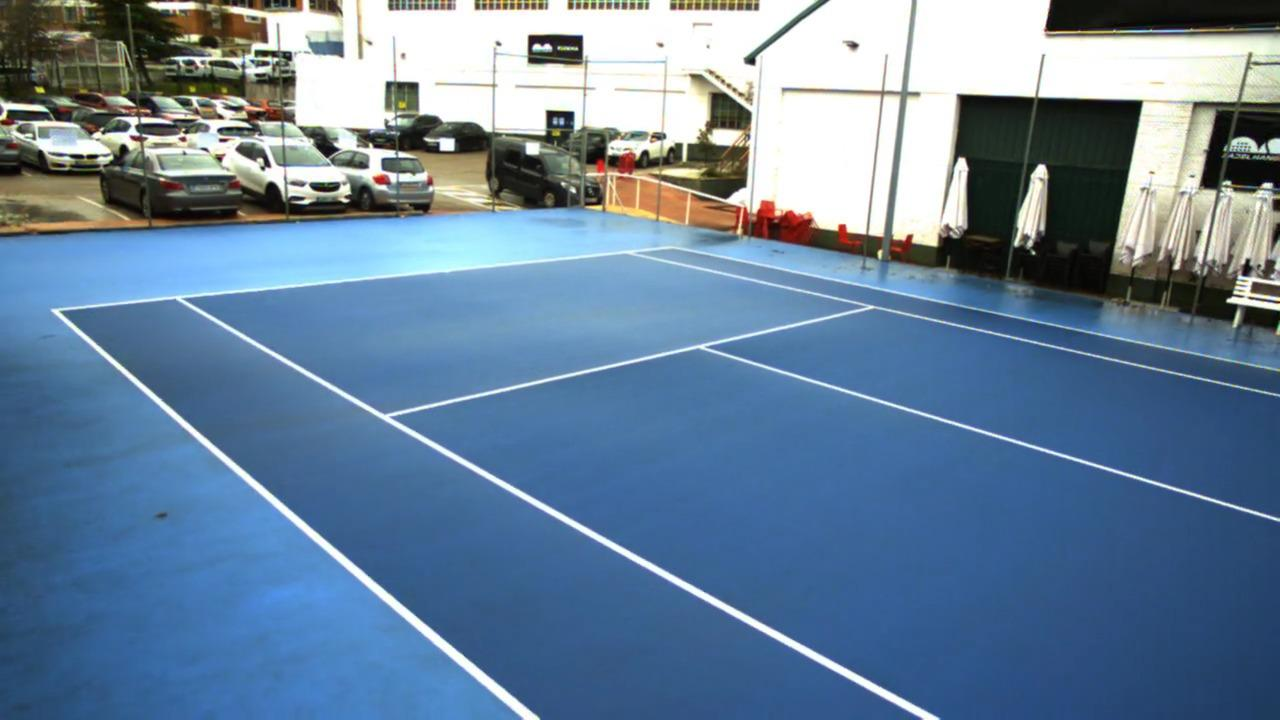cancha_tenis: (176, 249, 1280, 718)
point_f1: (168, 288, 196, 312)
point_f2: (618, 243, 641, 265)
point_i1: (370, 403, 405, 431)
point_i2: (856, 297, 887, 319)
point_ic1: (689, 333, 723, 358)
